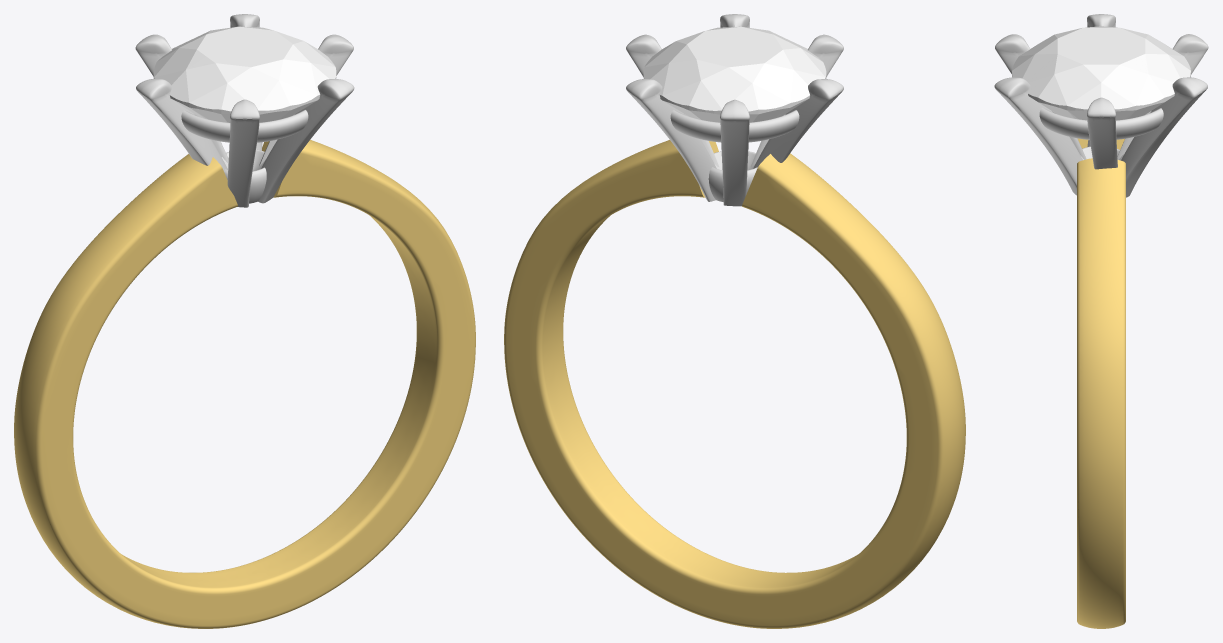
The model's file is kyleK_webgi.glb.
3 renders of one model, left to right at view 1: azimuth 30°, elevation 25°; view 2: azimuth 150°, elevation 25°; view 3: azimuth 270°, elevation 25°, orthographic. The views are drawn at different scales.
Visible parts, largest first — view 1: Kyle_YG_band_for_3d_model, Kyle_PT_head_for_3d_model, Kyle_dia_for_3d_model; view 2: Kyle_YG_band_for_3d_model, Kyle_PT_head_for_3d_model, Kyle_dia_for_3d_model; view 3: Kyle_YG_band_for_3d_model, Kyle_dia_for_3d_model, Kyle_PT_head_for_3d_model.
Part boxes in pixels (left/top/right/bottom): Kyle_YG_band_for_3d_model: left=14, top=140, right=475, bottom=628; Kyle_PT_head_for_3d_model: left=135, top=14, right=354, bottom=207; Kyle_dia_for_3d_model: left=153, top=26, right=336, bottom=122; Kyle_YG_band_for_3d_model: left=504, top=140, right=965, bottom=628; Kyle_PT_head_for_3d_model: left=626, top=14, right=843, bottom=206; Kyle_dia_for_3d_model: left=643, top=26, right=826, bottom=122; Kyle_YG_band_for_3d_model: left=1077, top=138, right=1125, bottom=628; Kyle_dia_for_3d_model: left=1012, top=26, right=1190, bottom=120; Kyle_PT_head_for_3d_model: left=994, top=14, right=1208, bottom=197.
Size of the model in its own units: 2.45 by 2.99 by 1.04.
